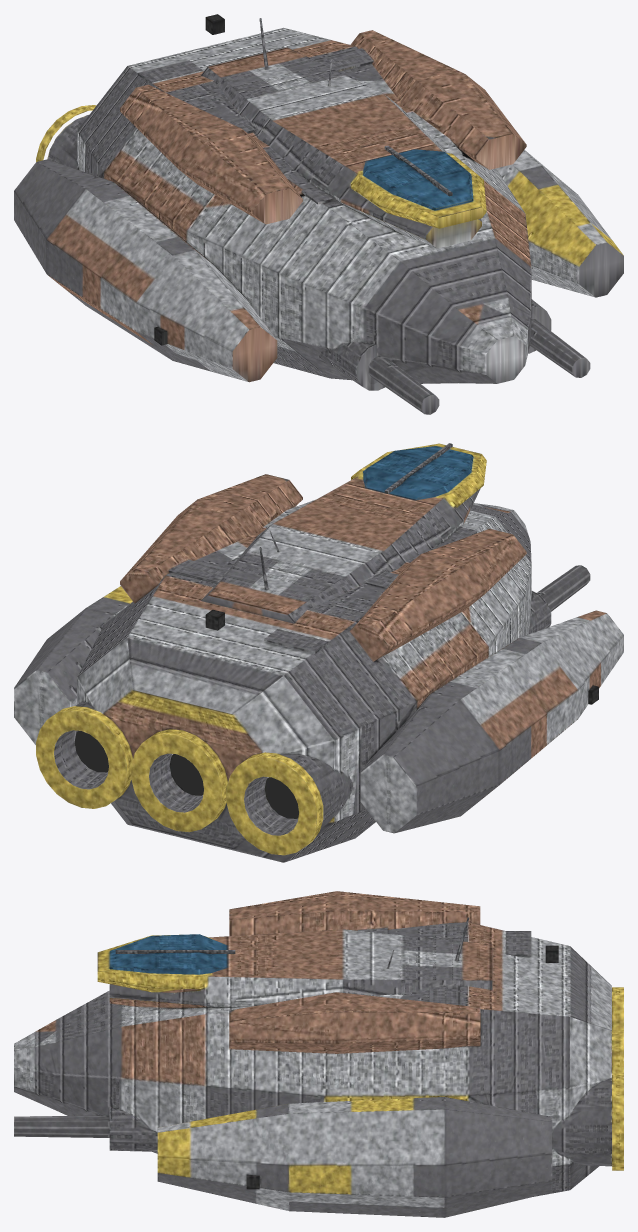
File: sd_npc_brute.glb
3 views of the same model, one above another, from view 1: azimuth 30°, elevation 25°; view 2: azimuth 150°, elevation 25°; view 3: azimuth 270°, elevation 25° (orthographic). The views are drawn at different scales.
Visible parts, largest first — view 1: LOD0_body, LOD1_body; view 2: LOD0_body, LOD1_body; view 3: LOD0_body, LOD1_body.
Part boxes in pixels (x1=…): LOD0_body: x1=14, y1=14, x2=623, y2=414; LOD1_body: x1=42, y1=15, x2=595, y2=392; LOD0_body: x1=14, y1=443, x2=623, y2=862; LOD1_body: x1=36, y1=443, x2=616, y2=857; LOD0_body: x1=14, y1=891, x2=623, y2=1217; LOD1_body: x1=14, y1=911, x2=623, y2=1217.
Size of the model in its own units: 0.7941 by 0.4489 by 1.
Materials: 1 (1 with a texture image).
